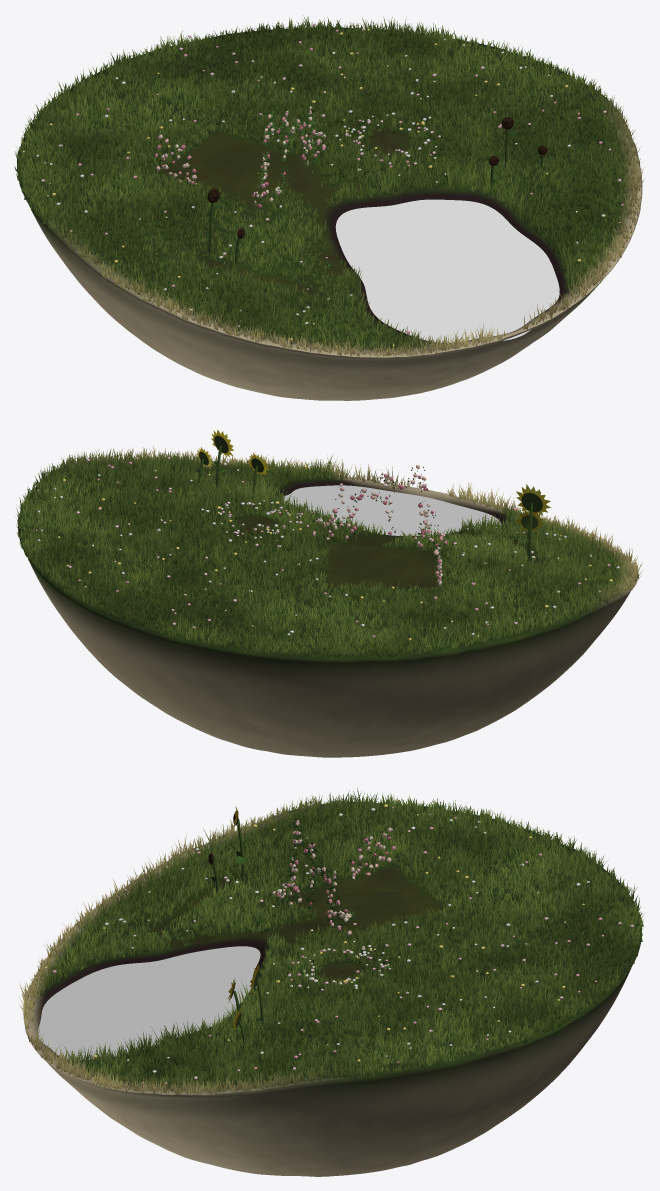
File: village-summer.glb
3 renders of one model, top to bottom at view 1: azimuth 30°, elevation 25°; view 2: azimuth 150°, elevation 25°; view 3: azimuth 270°, elevation 25°, orthographic. The views are drawn at different scales.
Visible parts, largest first — view 1: grass, ground, water, decor; view 2: grass, ground, decor, water; view 3: grass, ground, water, decor.
Boxes of the visible parts, <box> form: grass: <box>14,15,645,356</box>; ground: <box>17,27,642,400</box>; water: <box>335,199,559,342</box>; decor: <box>22,24,624,349</box>; grass: <box>16,445,642,658</box>; ground: <box>18,459,637,757</box>; decor: <box>35,429,622,642</box>; water: <box>283,485,501,535</box>; grass: <box>19,788,644,1094</box>; ground: <box>23,801,641,1176</box>; water: <box>28,946,260,1060</box>; decor: <box>44,802,633,1084</box>.
Size of the model in its own units: 107 by 42.95 by 102.
